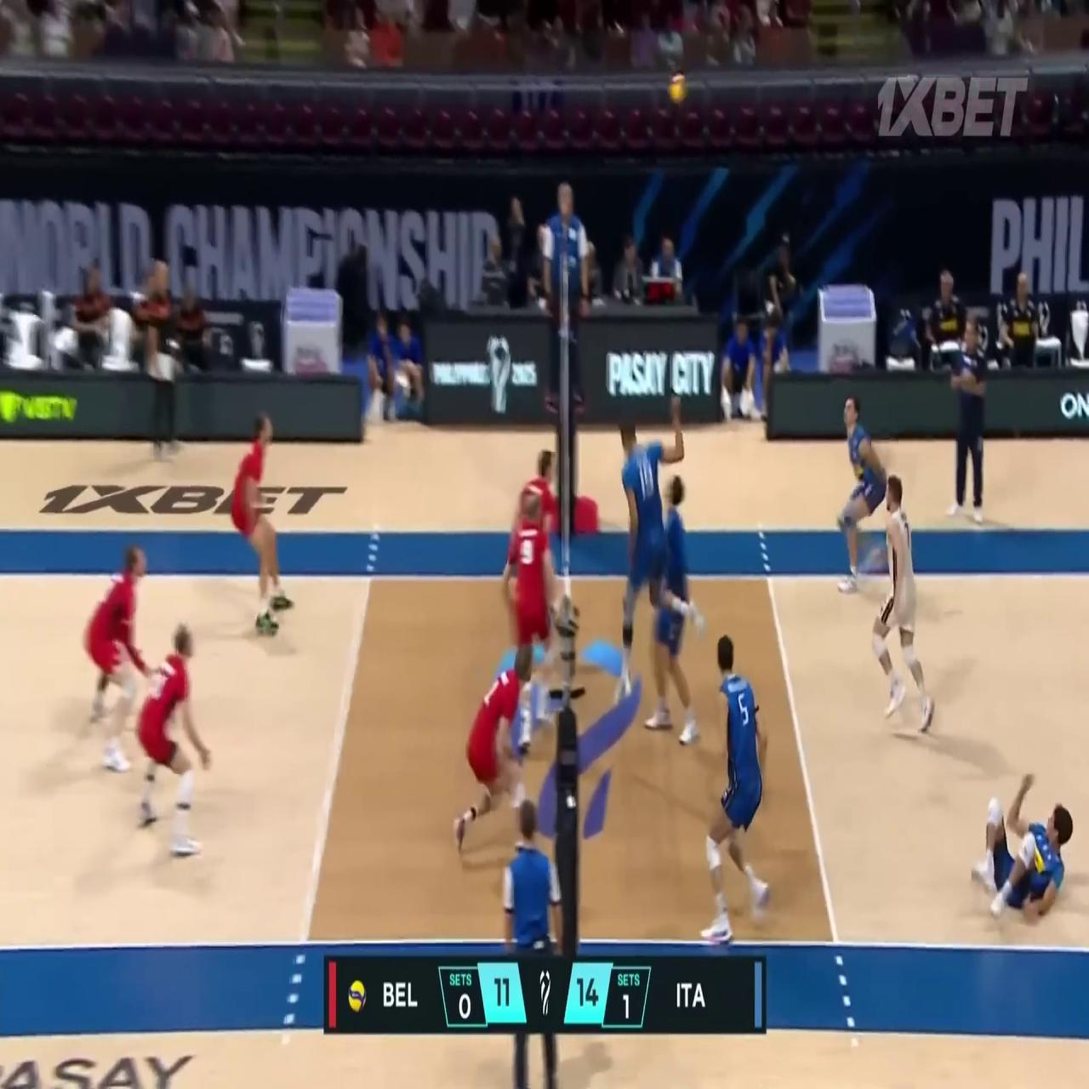ball: (669, 74, 686, 102)
